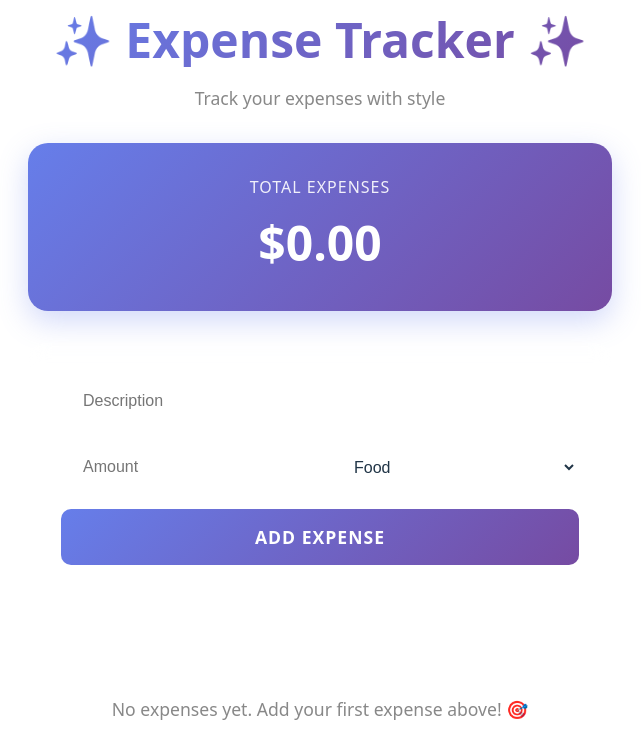
Test: Expense Generator App › updates total when expense is added
In the field named "expense description": [320, 401] box [61,376,579,426], type "Coffee"
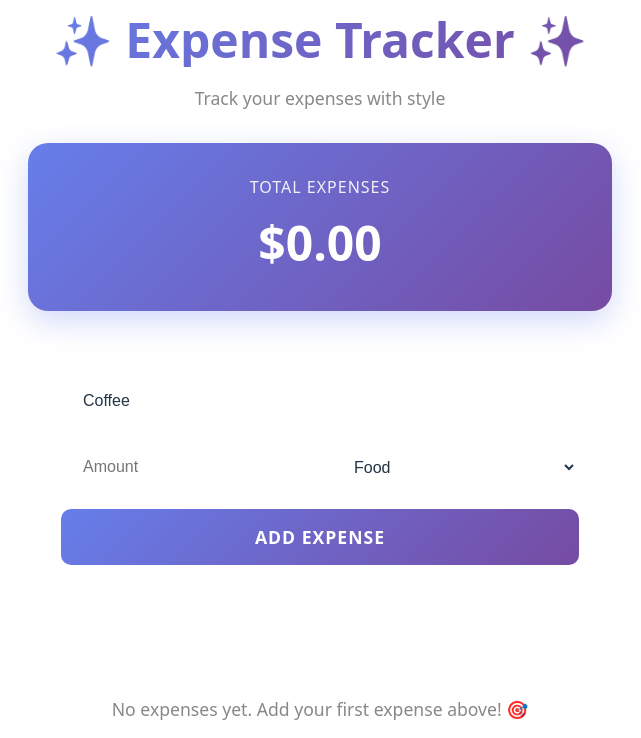
In the number field named "expense amount": [186, 467] box [61,442,312,492], type "5.00"
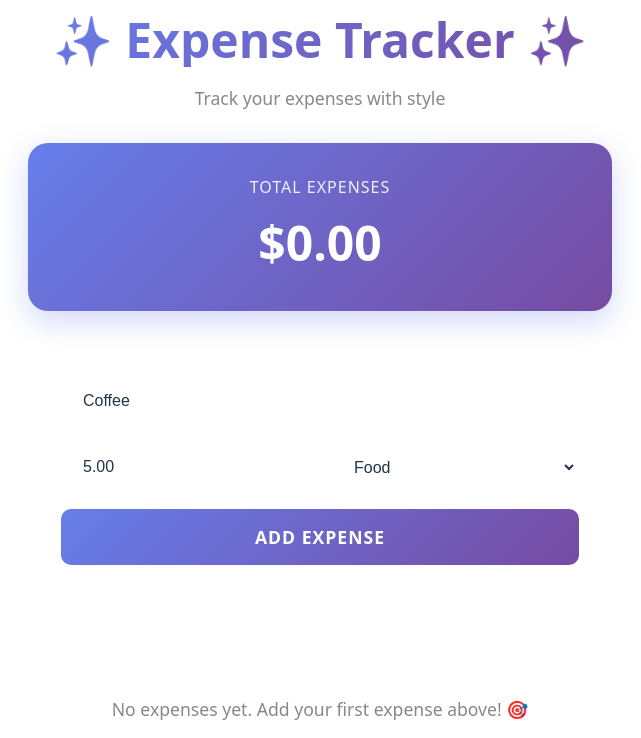
Click the button "Add Expense": [320, 537] box [61,509,579,565]
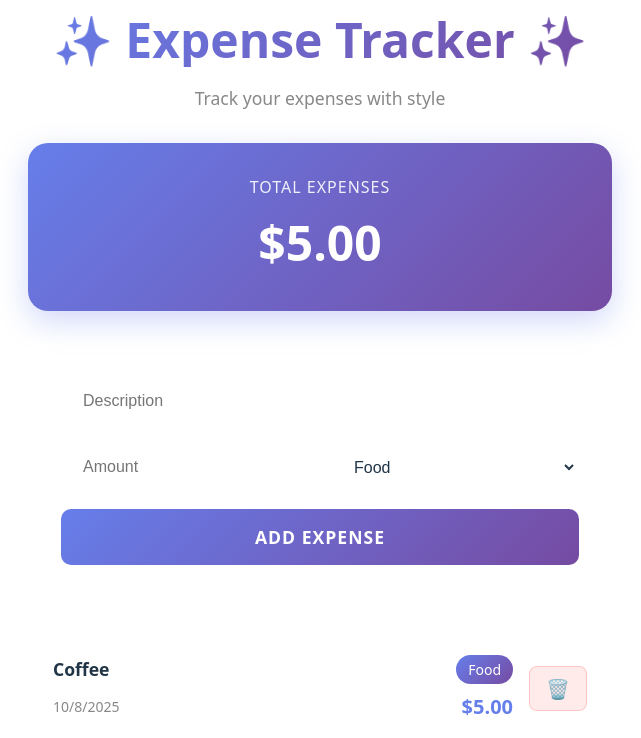
Expected: the text "$5.00" below "Total Expenses" is shown, [258,210,382,275]
